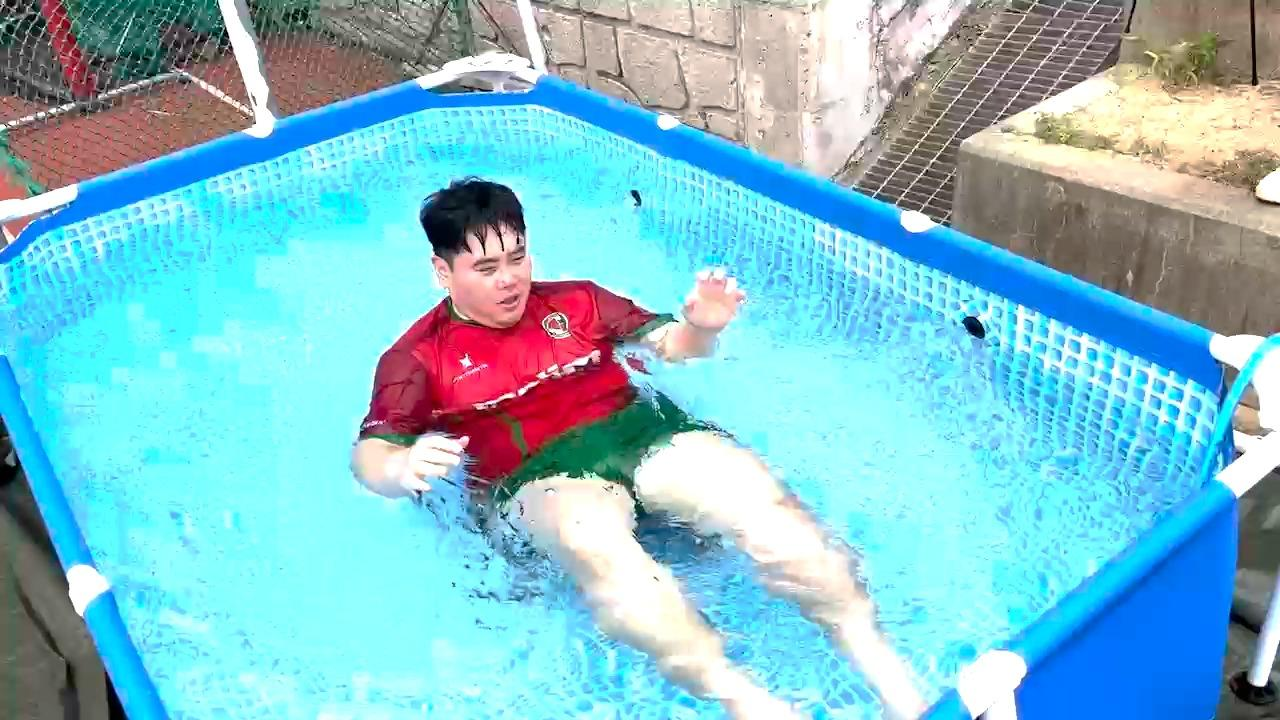Swimming: (263, 135, 990, 720)
